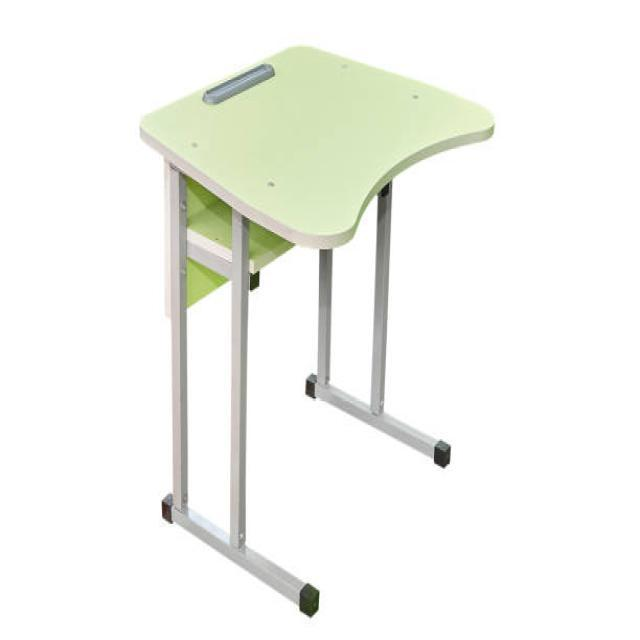table: (138, 43, 494, 616)
